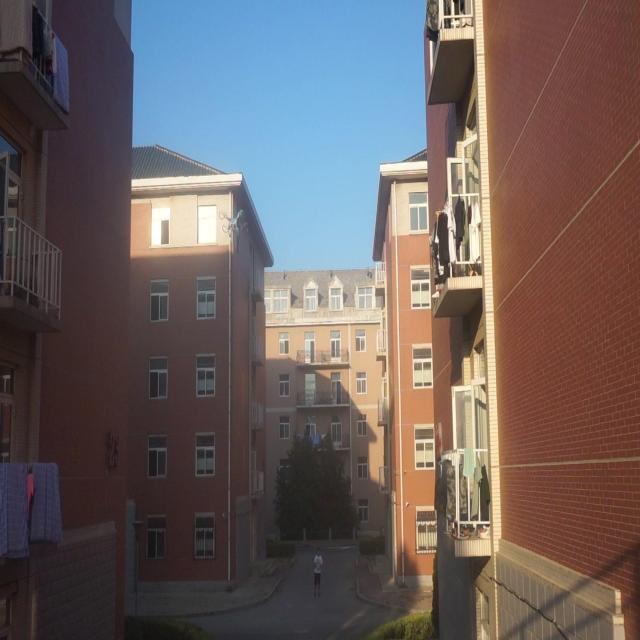UAV: (219, 209, 249, 237)
